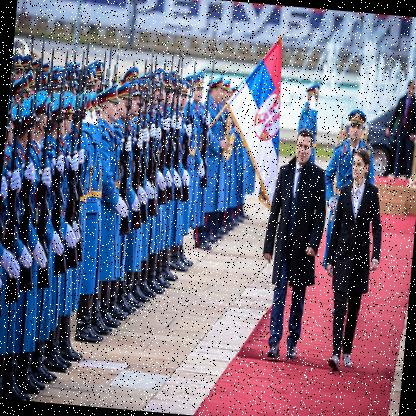rs: (219, 35, 292, 212)
